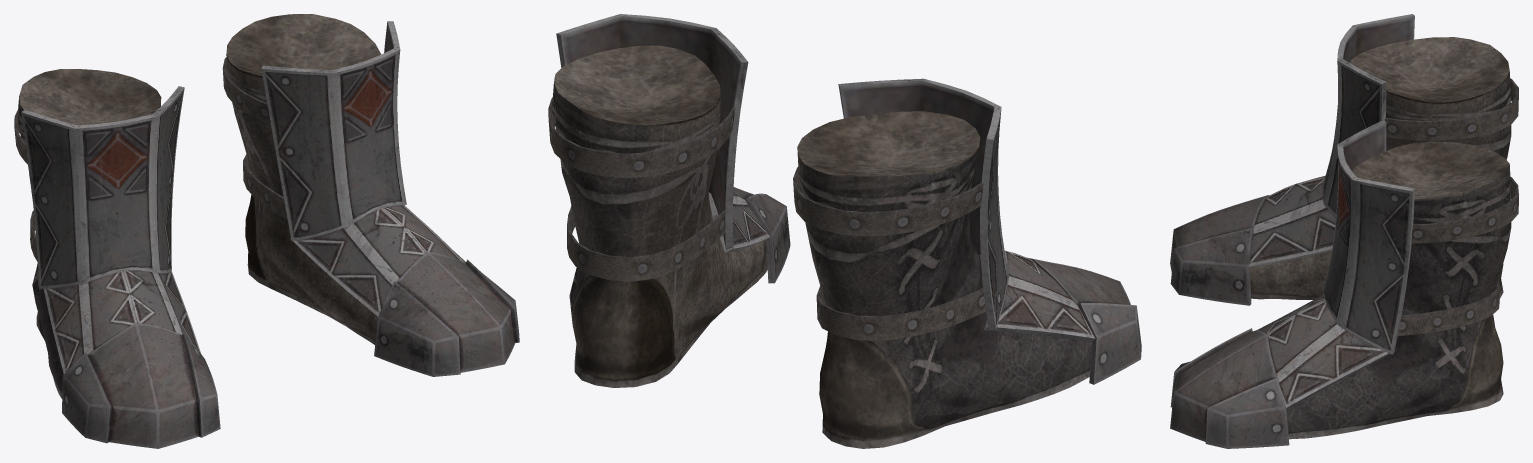
File: sk_dwarf_iron_boots_elite_a1.fbx
3 renders of one model, left to right at view 1: azimuth 30°, elevation 25°; view 2: azimuth 150°, elevation 25°; view 3: azimuth 270°, elevation 25°, orthographic. The views are drawn at different scales.
Parts seen in each view (by area): view 1: sk_dwarf_iron_boots_elite_a1.0, sk_dwarf_iron_boots_elite_a1.1; view 2: sk_dwarf_iron_boots_elite_a1.0, sk_dwarf_iron_boots_elite_a1.1; view 3: sk_dwarf_iron_boots_elite_a1.0, sk_dwarf_iron_boots_elite_a1.1.
Part boxes in pixels (x1,y1,x2,y2): sk_dwarf_iron_boots_elite_a1.0: [17, 14, 519, 448]; sk_dwarf_iron_boots_elite_a1.1: [14, 57, 287, 261]; sk_dwarf_iron_boots_elite_a1.0: [552, 14, 1141, 448]; sk_dwarf_iron_boots_elite_a1.1: [548, 97, 985, 340]; sk_dwarf_iron_boots_elite_a1.0: [1170, 14, 1511, 448]; sk_dwarf_iron_boots_elite_a1.1: [1385, 78, 1518, 335].
Bounding box in the file's own units: 0.5675 × 0.4046 × 0.3127.
2 materials, 2 textured.
